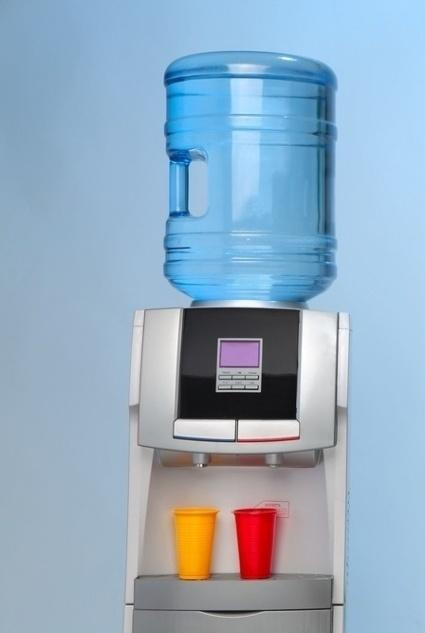Dispenser: (119, 48, 350, 632)
